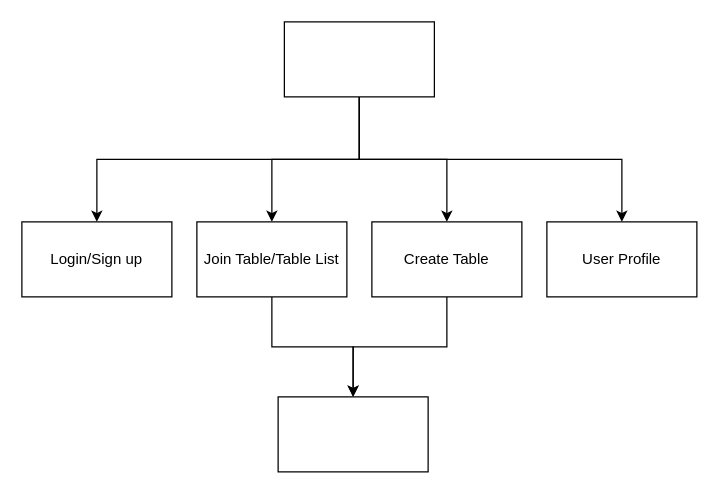
Some shapes in this 719 by 504 pixel diagram are drawn without their labels. Each missing label, with the centre of its shape:
Home: point (358, 59)
Table: point (352, 434)
